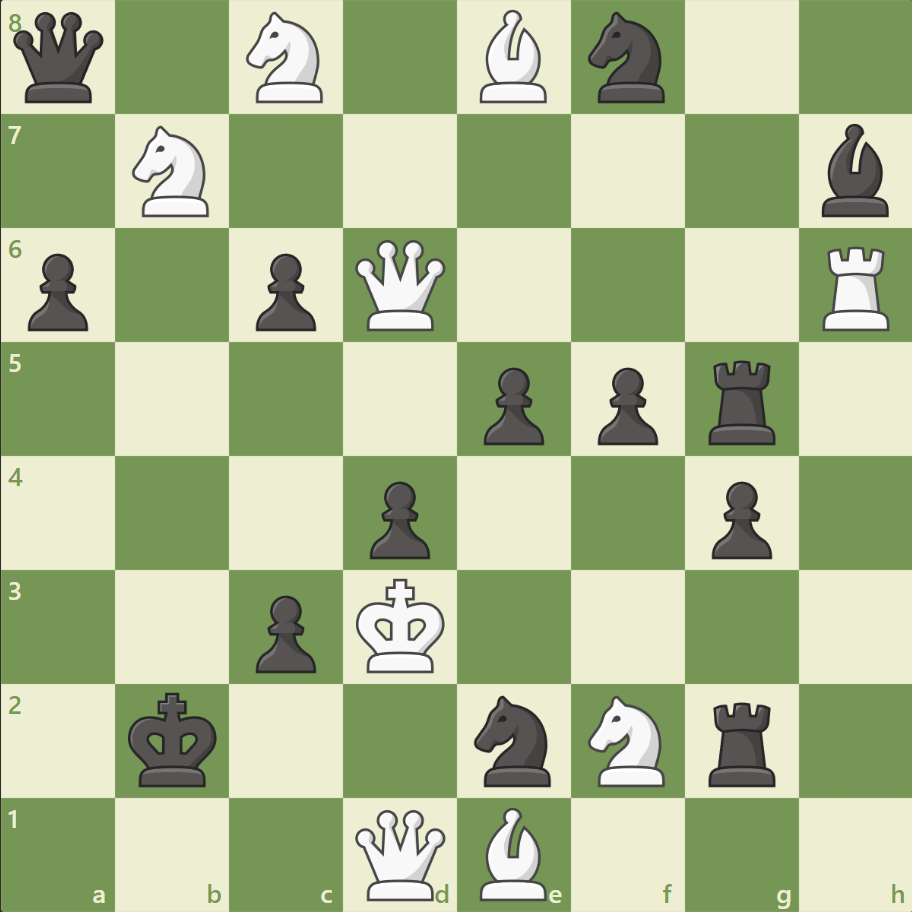B: (471, 6, 555, 109), (471, 801, 555, 904)
K: (351, 571, 451, 679)
N: (124, 121, 222, 223), (238, 7, 335, 110), (579, 688, 676, 791)
Q: (351, 236, 450, 335), (351, 804, 450, 903)
R: (814, 239, 897, 336)
b: (812, 120, 896, 222)
k: (124, 685, 224, 793)
n: (579, 7, 676, 110), (465, 688, 562, 791)
p: (20, 246, 95, 337), (247, 246, 322, 337), (474, 359, 549, 450), (701, 473, 776, 564), (247, 586, 322, 677), (588, 359, 662, 450), (361, 473, 435, 564)
q: (10, 9, 109, 108)
r: (700, 352, 783, 449), (700, 693, 783, 790)
